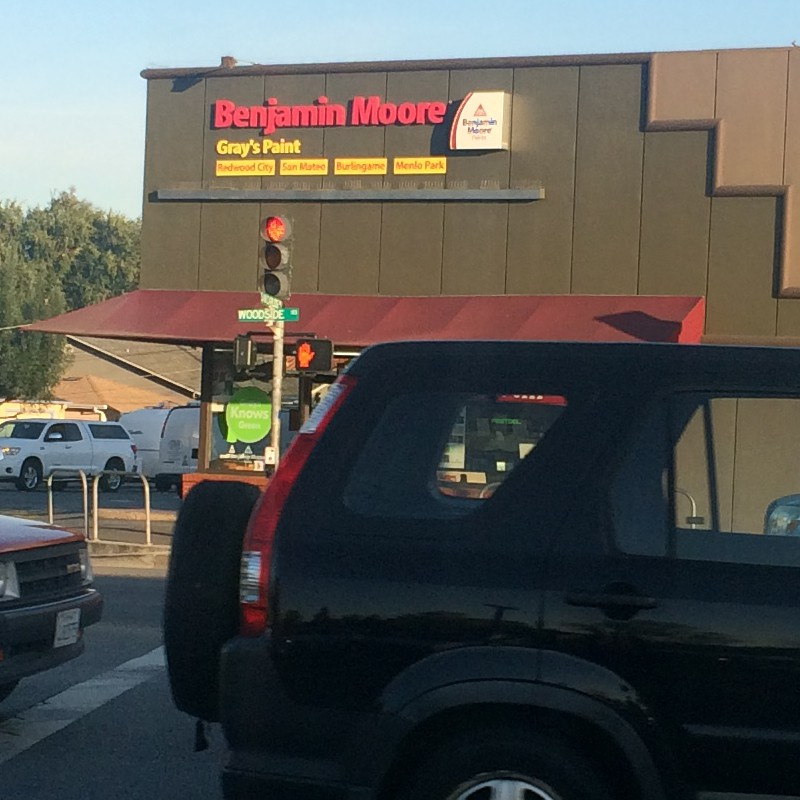stop: (292, 341, 340, 379)
